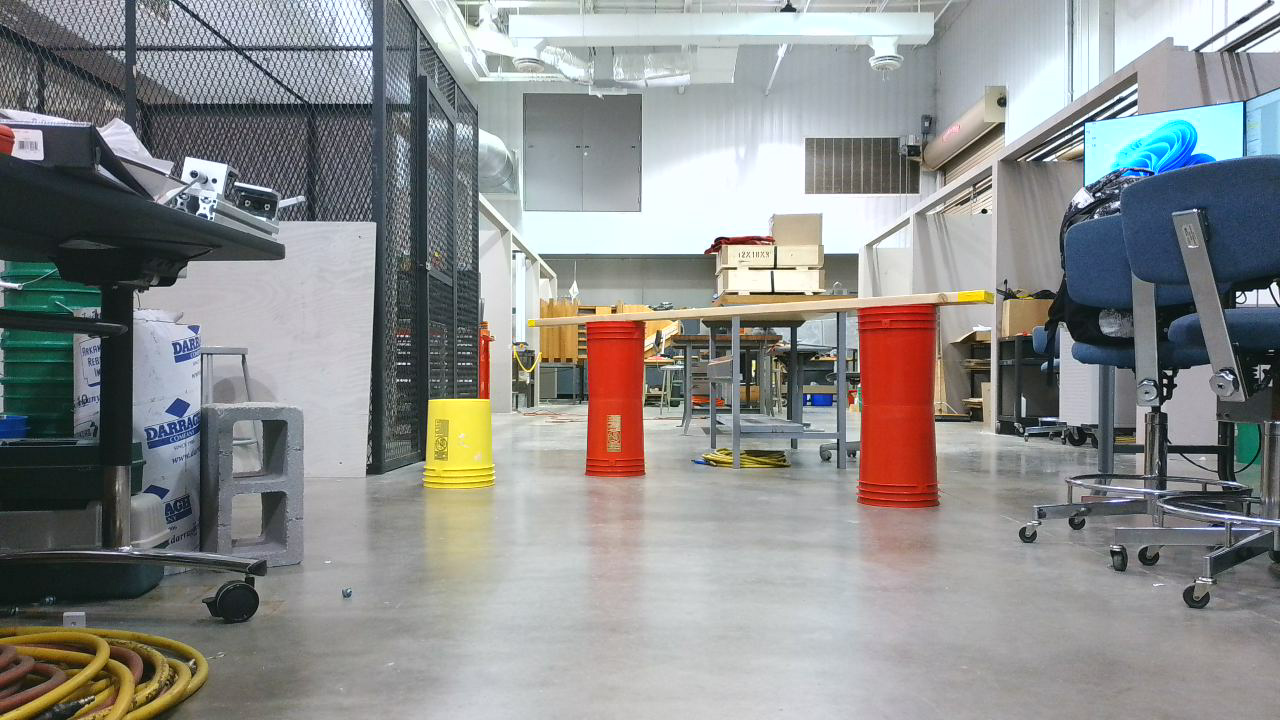red_bucket_arch: (578, 308, 950, 516)
yellow_bucket: (431, 402, 502, 492)
